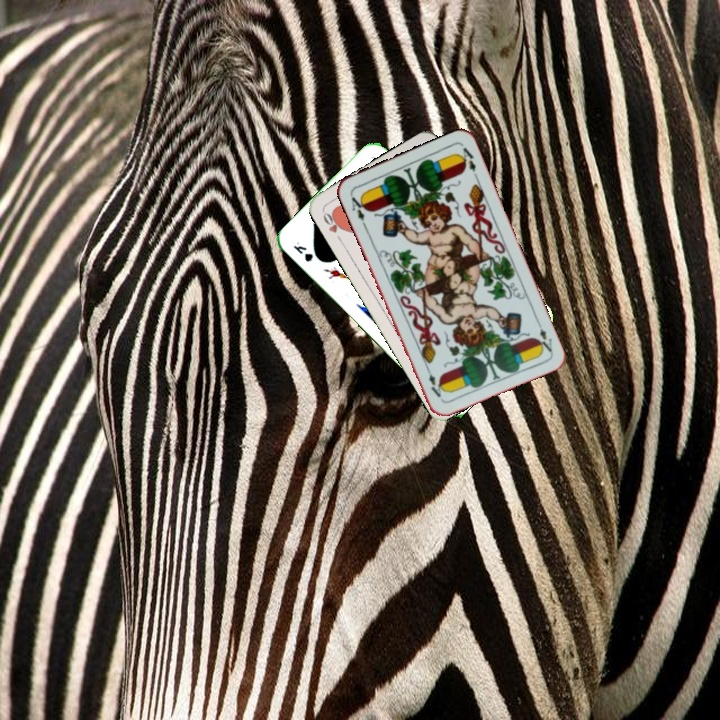EA: (346, 190, 370, 229), (532, 316, 555, 355)
GK: (289, 237, 316, 265)
HO: (319, 207, 346, 244)
